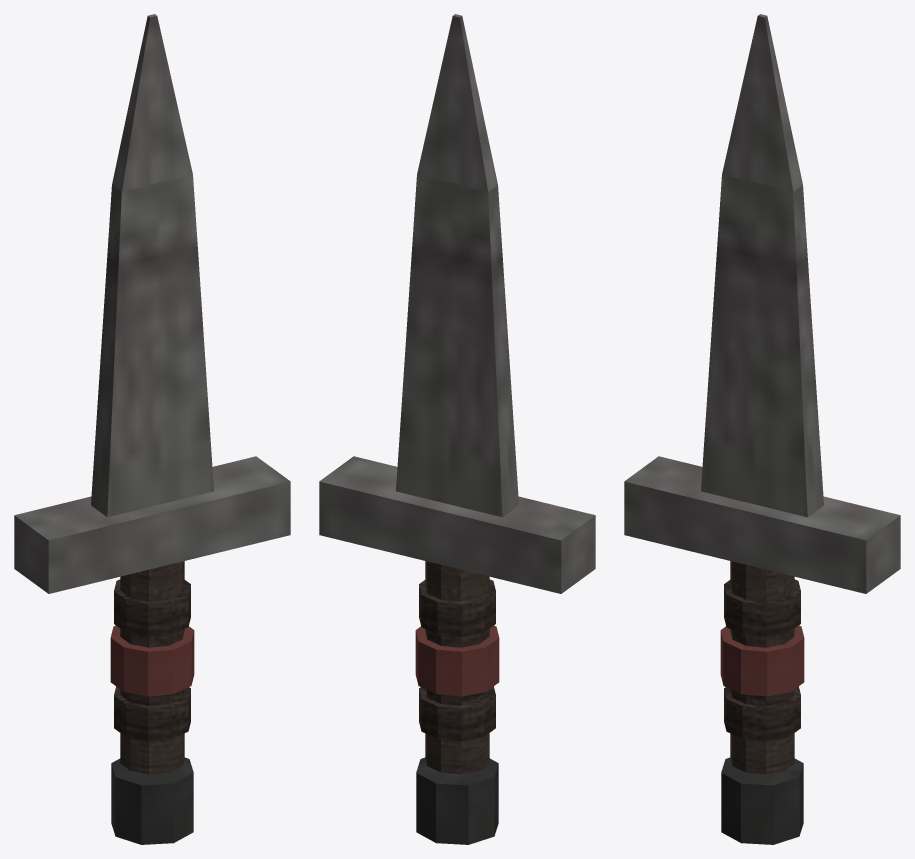
The model's file is wpn_dagger_starter.glb.
3 renders of one model, left to right at view 1: azimuth 30°, elevation 25°; view 2: azimuth 150°, elevation 25°; view 3: azimuth 330°, elevation 25°, orthographic.
Parts seen in each view (by area): view 1: wpn_dagger_starter; view 2: wpn_dagger_starter; view 3: wpn_dagger_starter.
Boxes of the visible parts, x1,y1,x2,y2 form: wpn_dagger_starter: (14, 14, 290, 844); wpn_dagger_starter: (319, 14, 595, 844); wpn_dagger_starter: (624, 14, 900, 844).
Bounding box in the file's own units: 0.17 × 0.545 × 0.052.
Materials: 4 (4 with a texture image).
